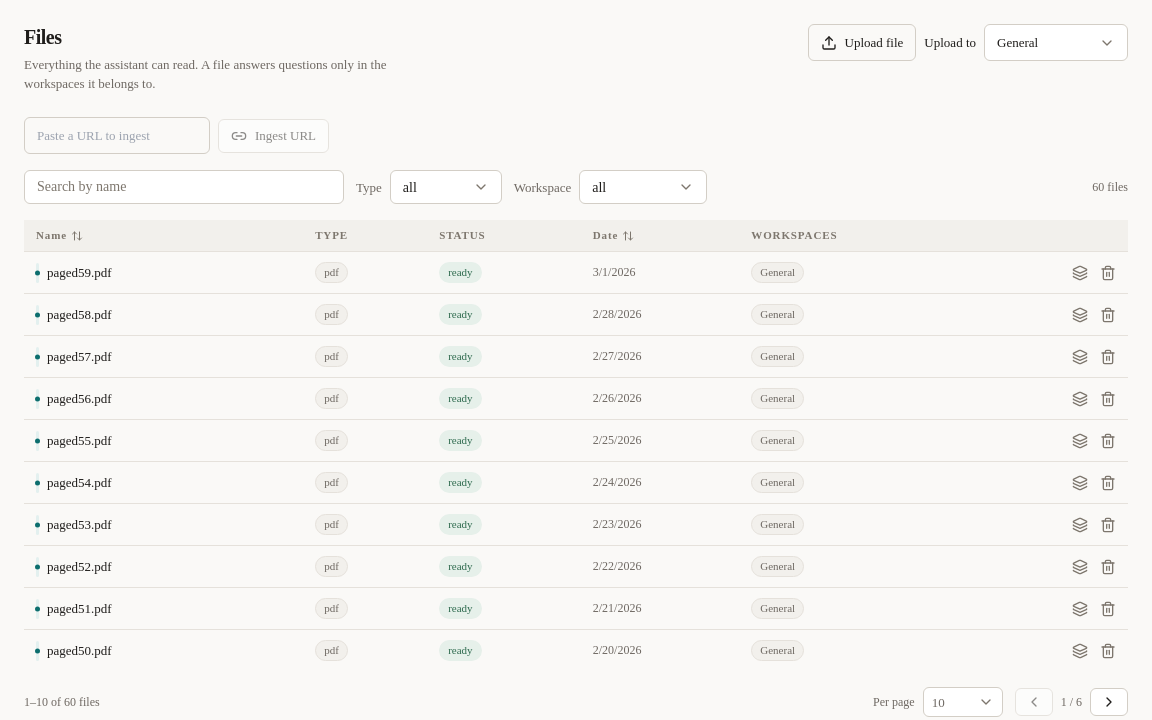
Test: FilesManager › pagination › pages forward over the same list
Click the button named "Next page": x=1109, y=702 [1090,688,1128,716]
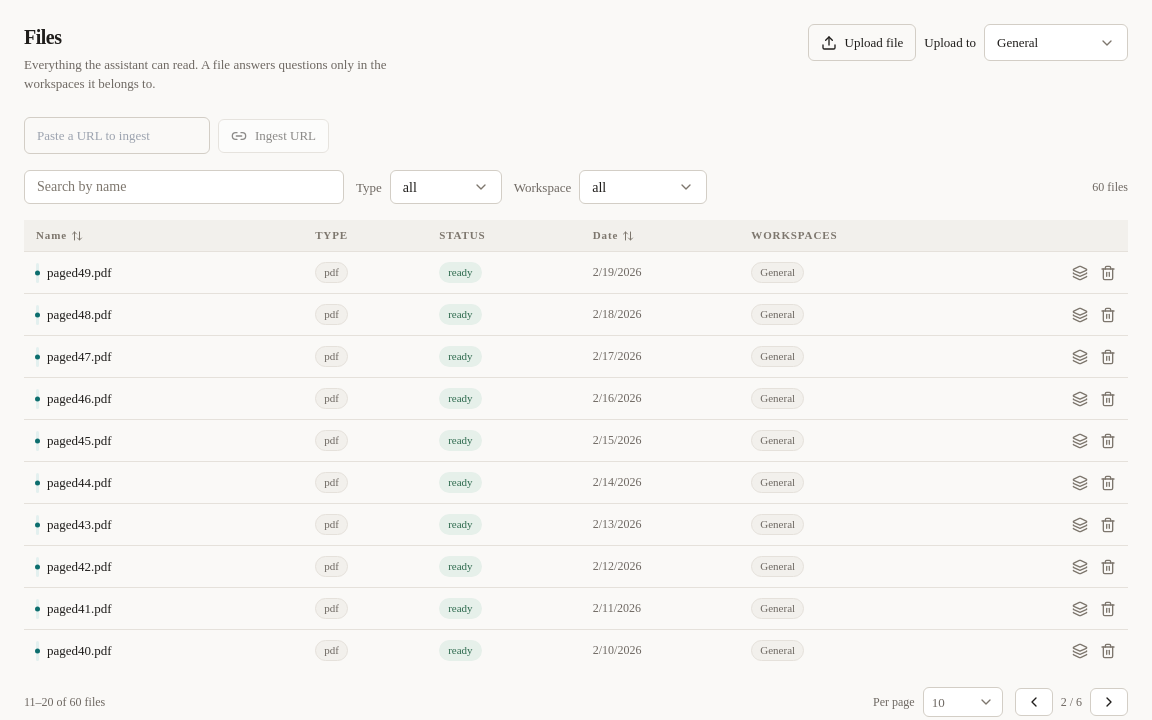
expect the text "paged49.pdf" is shown: met, box [47,263,112,282]
expect the text "paged59.pdf" is gone: met
